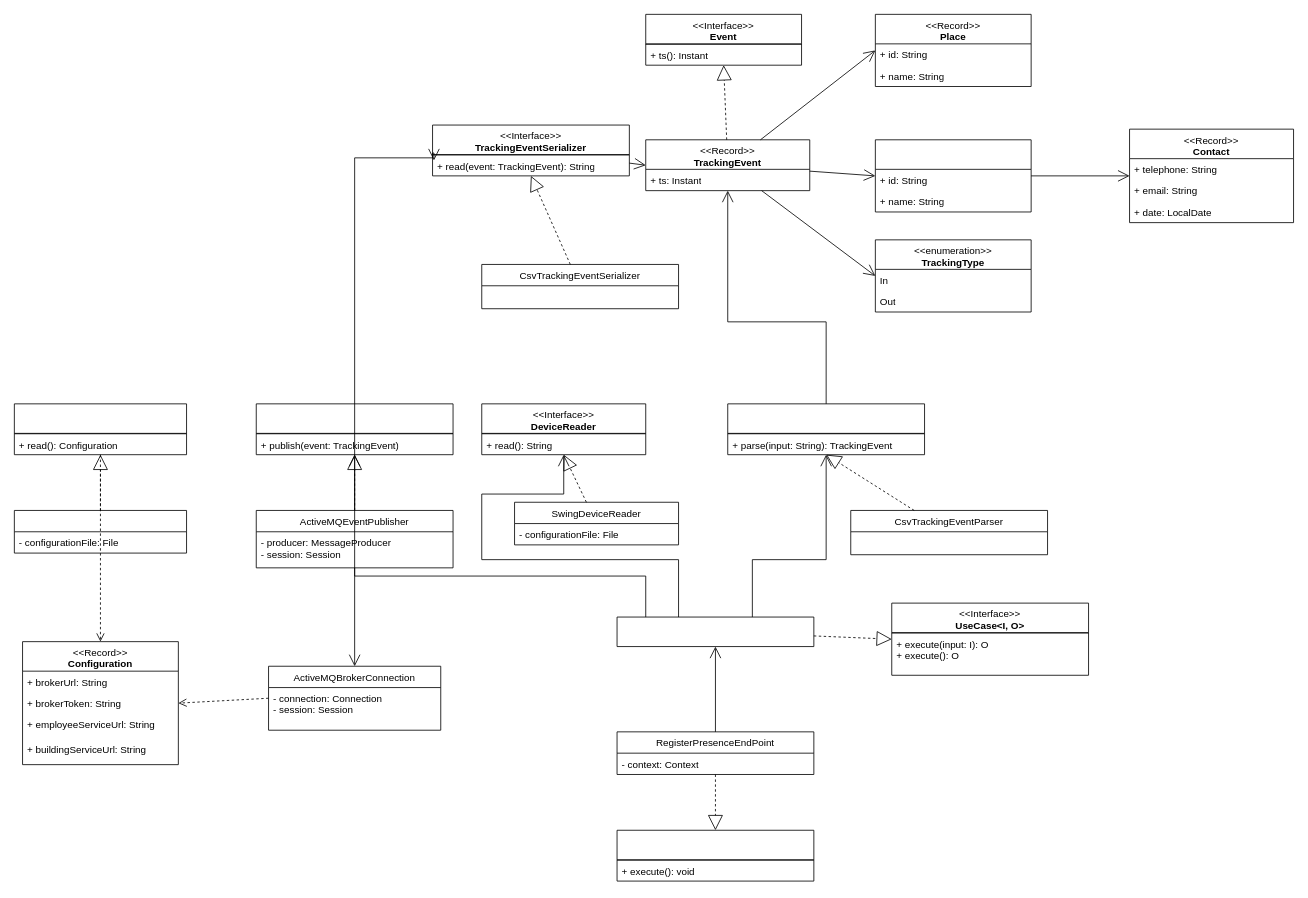
Some shapes in this 1308 by 898 pixel diagram are drawn without their labels. The box of each missing label's shape, as (x1, y1, x2, y2) in pixels:
<<Interface>> ConfigurationReader: (14, 403, 187, 455)
<<Interface>> EndPoint: (616, 829, 814, 881)
<<Interface>> EventPublisher: (255, 403, 453, 455)
<<Interface>> TrackingEventParser: (727, 403, 925, 455)
<<Record>> Employee: (875, 139, 1031, 212)
JsonConfigurationReader: (14, 510, 187, 553)
RegisterPresenceUseCase: (616, 616, 814, 647)
